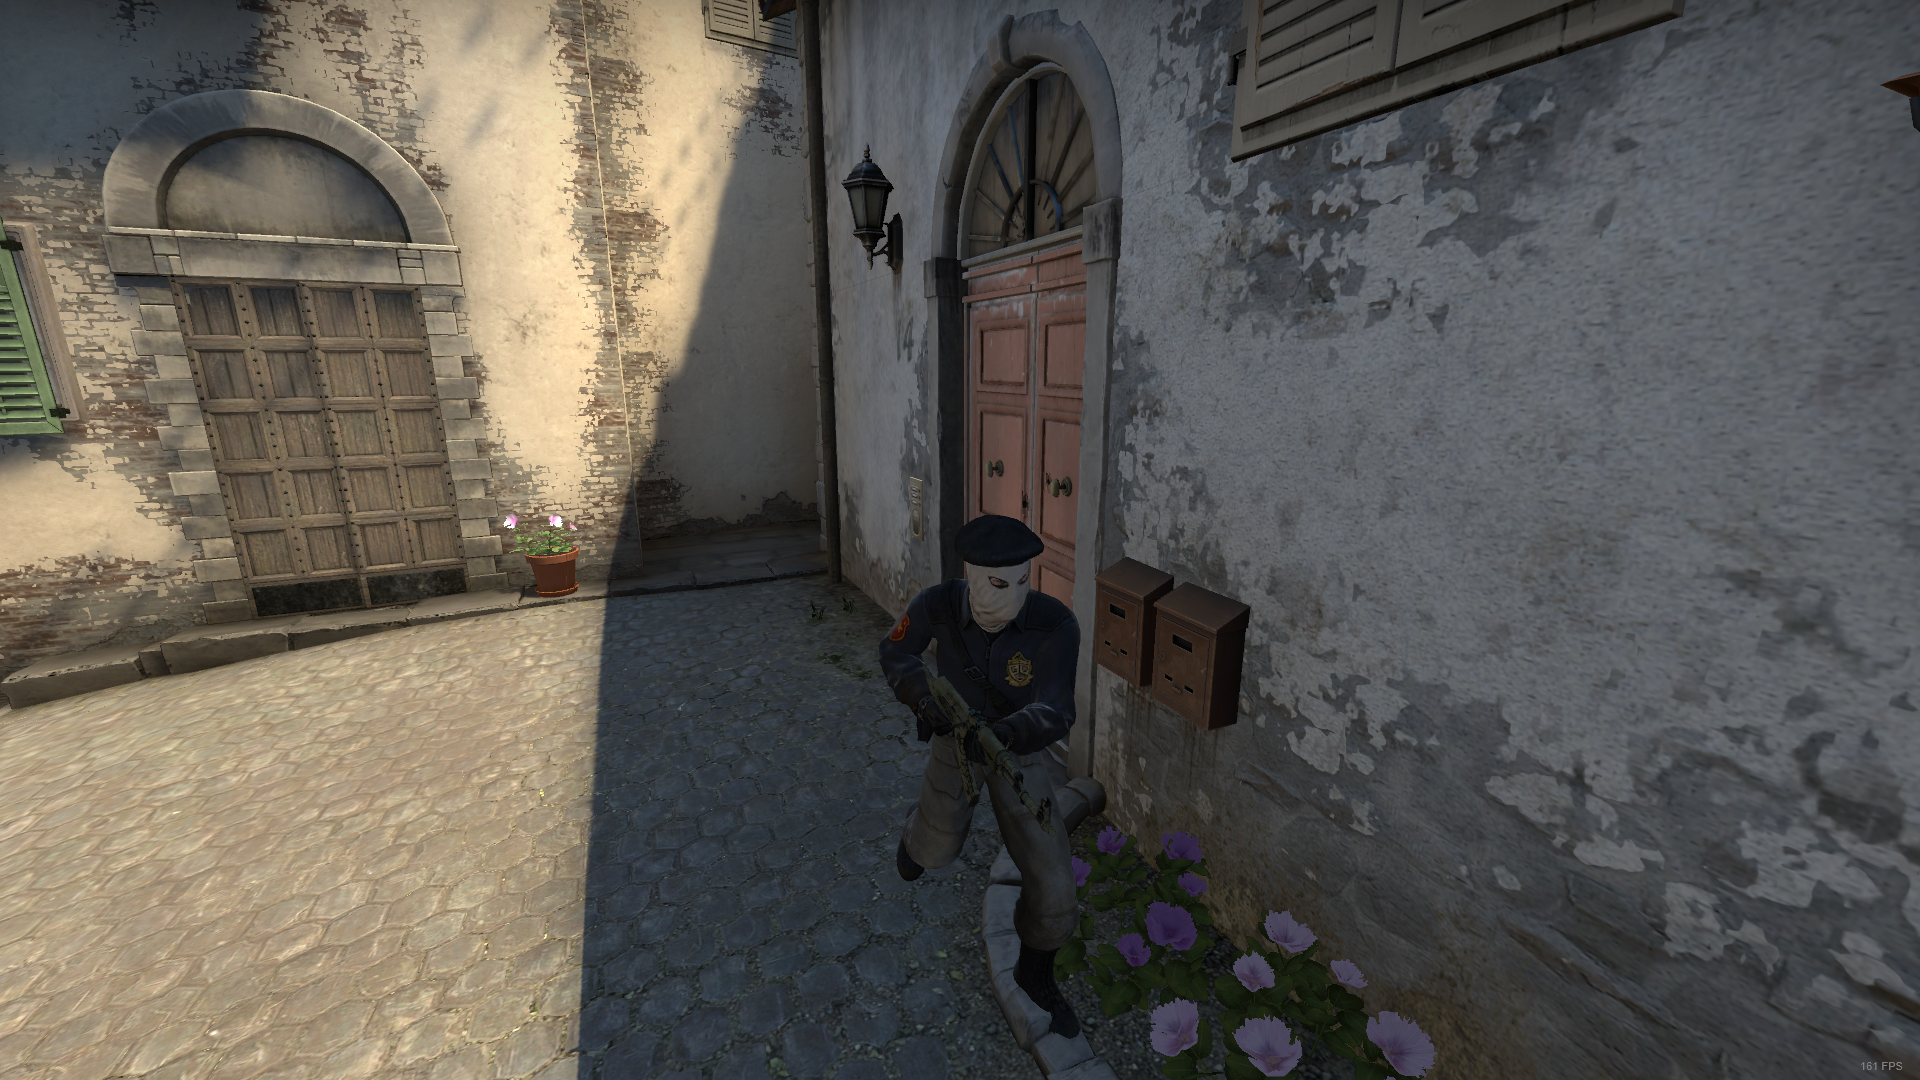t: (866, 514, 1087, 1042)
